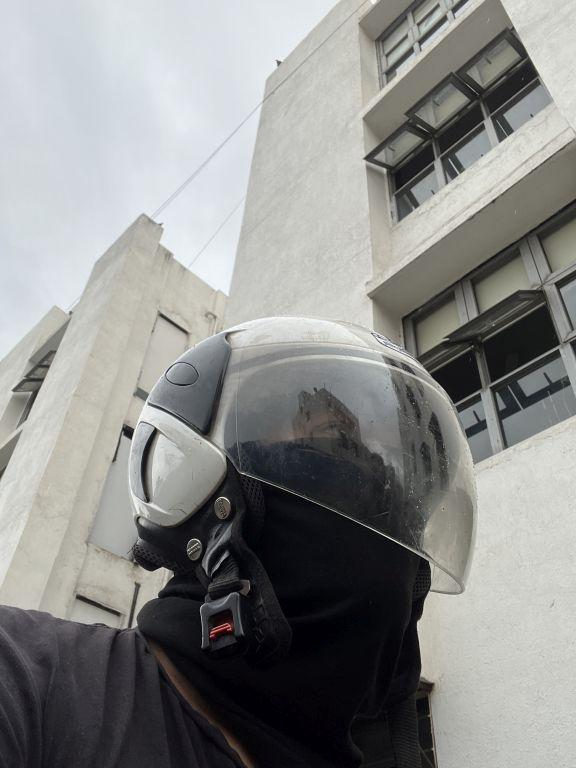helmet: (112, 300, 485, 657)
